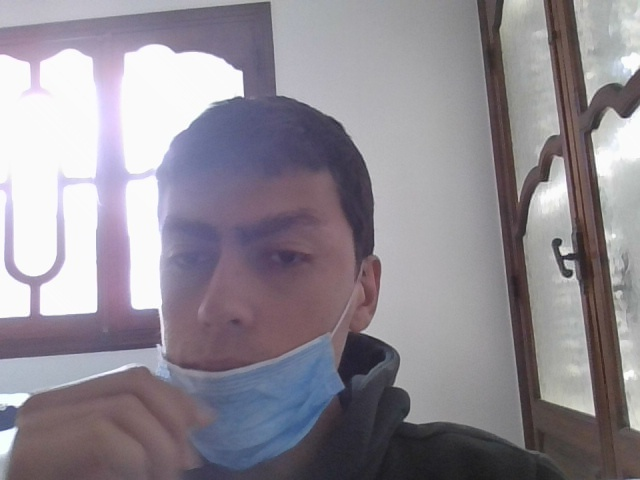mask_weared_incorrect: (150, 108, 377, 462)
